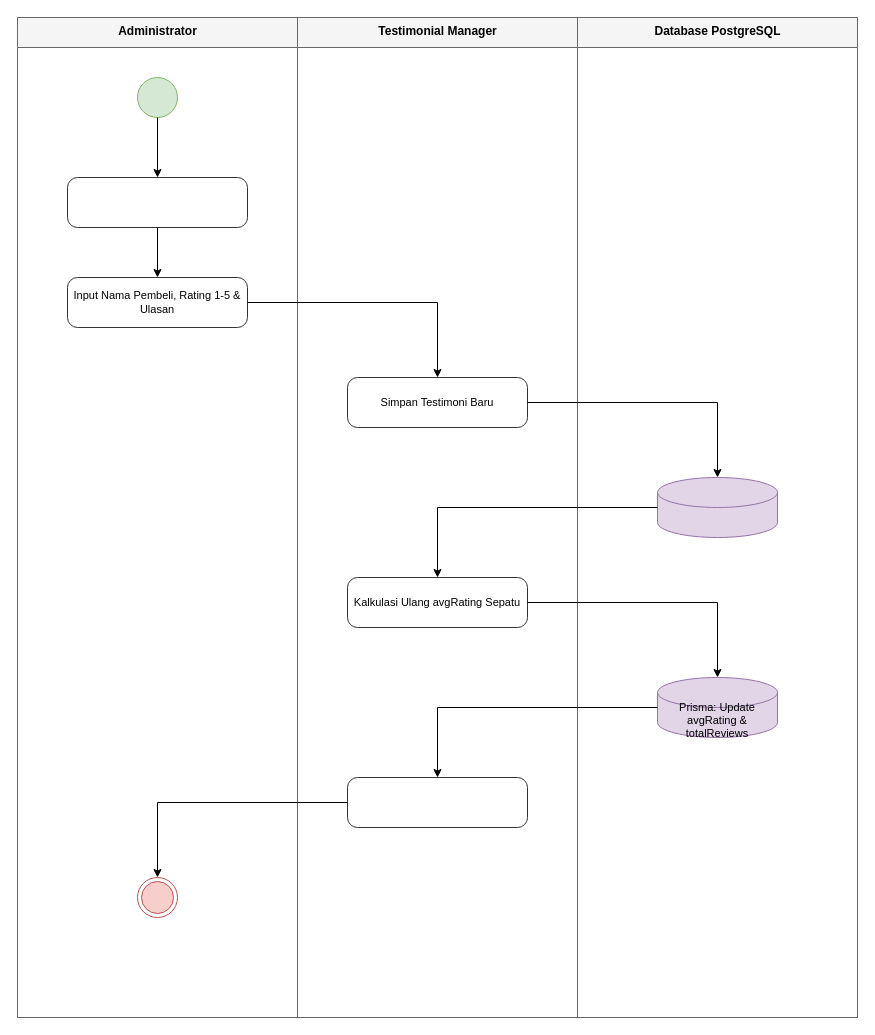
Image size: 875x1035. Some labels were removed from this diagram. Each missing label, with the centre of its shape:
"Buka Dashboard Testimonials" goes at pixel 157 202.
"Notifikasi Testimoni Aktif" goes at pixel 437 802.
"Prisma: Insert Testimonial" goes at pixel 717 507.
